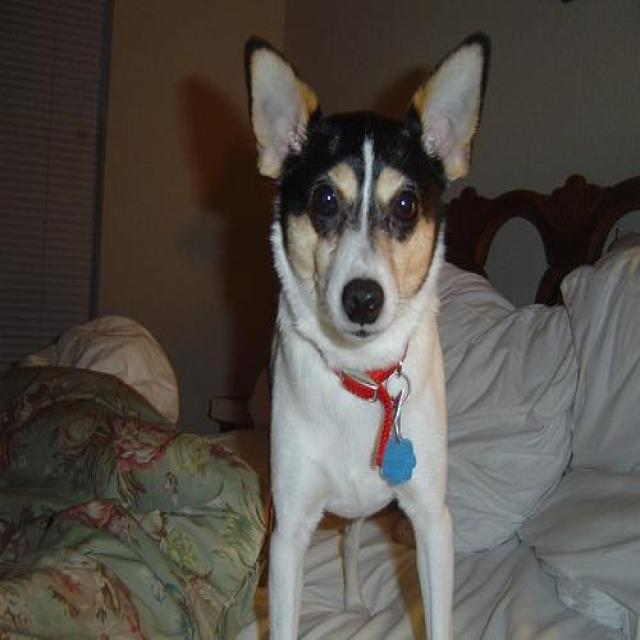toy_terrier: (242, 32, 493, 638)
